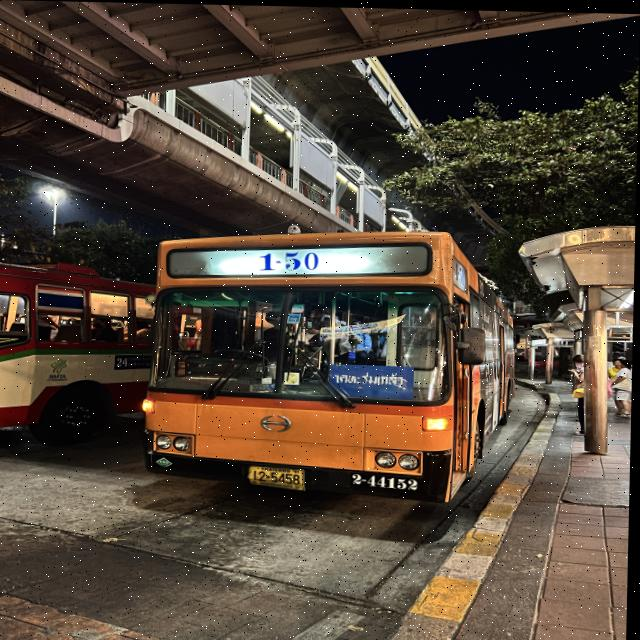BMTA-bus: (144, 230, 516, 499), (0, 264, 154, 449)
Bus Line Number: (255, 249, 326, 272)
Bus Side Number: (349, 470, 425, 491)
Destination Sign: (333, 362, 415, 400)
